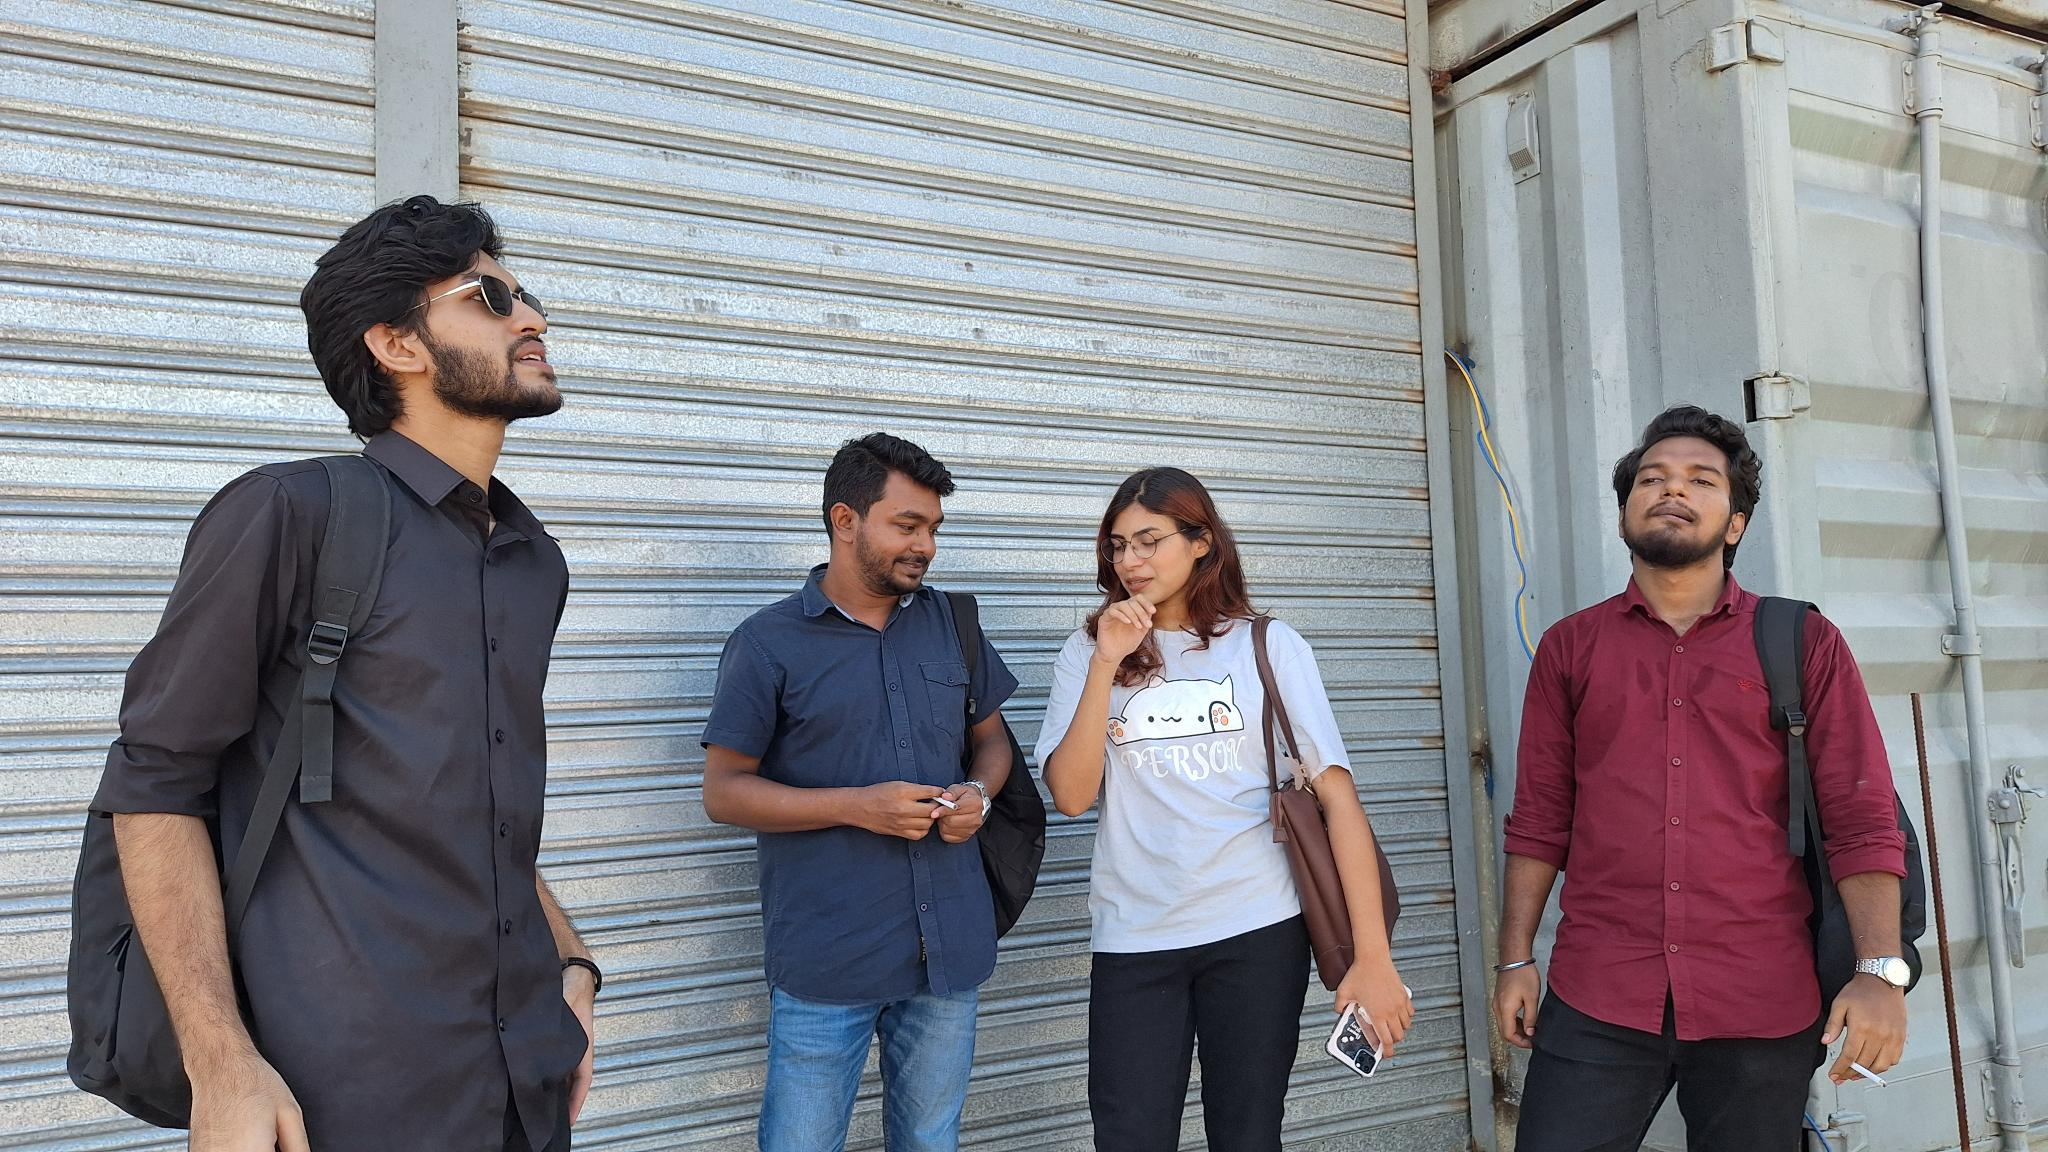cigarette: (1847, 1061, 1889, 1092), (931, 796, 959, 813)
nonSmoker: (66, 193, 603, 1152), (1034, 467, 1415, 1152)
smoker: (1490, 405, 1924, 1152), (700, 430, 1047, 1152)
